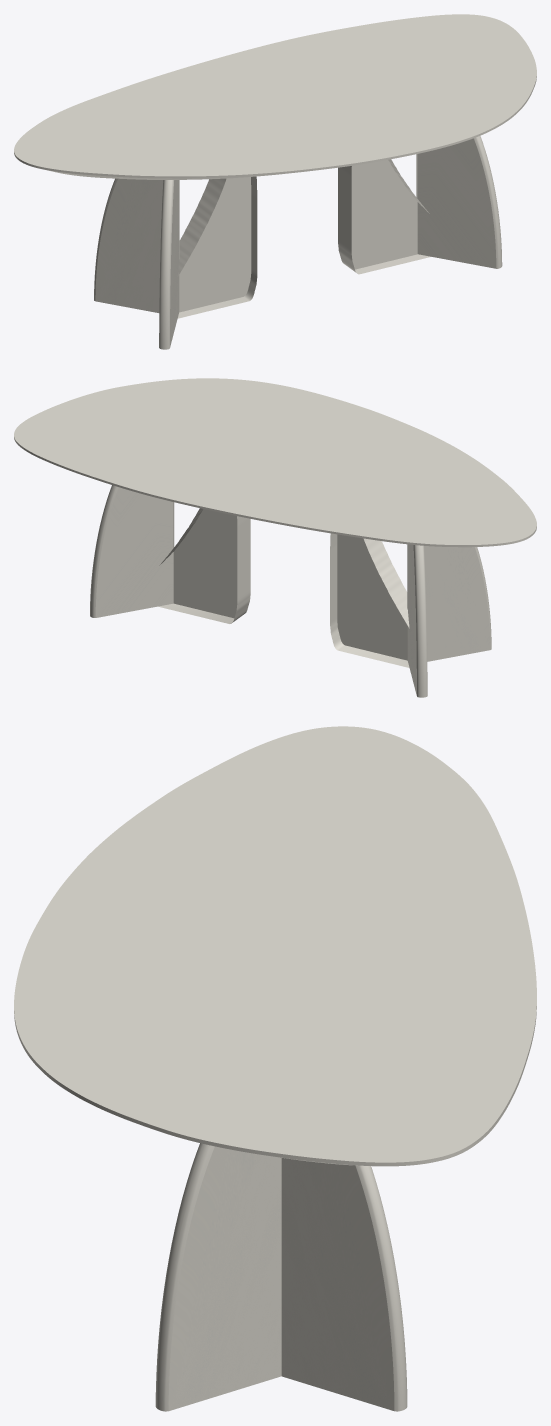
File: pale_pebbletop_facet_plane.glb
3 renders of one model, top to bottom at view 1: azimuth 30°, elevation 25°; view 2: azimuth 150°, elevation 25°; view 3: azimuth 270°, elevation 25°, orthographic. The views are drawn at different scales.
Parts seen in each view (by area): view 1: facet_pebbletop, plane_singleright2, plane_single1, plane_single2, plane_singleleft1, plane_singleright1; view 2: facet_pebbletop, plane_singleleft2, plane_single1, plane_single2, plane_singleright1, plane_singleleft1; view 3: facet_pebbletop, plane_singleright2, plane_singleleft2.
Part boxes in pixels (x1=…): facet_pebbletop: x1=14, y1=14, x2=536, y2=179; plane_singleright2: x1=416, y1=136, x2=502, y2=268; plane_single1: x1=177, y1=176, x2=257, y2=318; plane_single2: x1=338, y1=159, x2=431, y2=274; plane_singleleft1: x1=94, y1=178, x2=179, y2=312; plane_singleright1: x1=159, y1=180, x2=179, y2=349; facet_pebbletop: x1=14, y1=378, x2=536, y2=547; plane_singleleft2: x1=90, y1=485, x2=174, y2=617; plane_single1: x1=330, y1=533, x2=409, y2=667; plane_single2: x1=158, y1=508, x2=250, y2=623; plane_singleright1: x1=407, y1=544, x2=491, y2=661; plane_singleleft1: x1=407, y1=544, x2=427, y2=697; facet_pebbletop: x1=14, y1=726, x2=536, y2=1166; plane_singleright2: x1=155, y1=1143, x2=281, y2=1411; plane_singleleft2: x1=281, y1=1158, x2=407, y2=1411.
Size of the model in its own units: 7.5 by 2.49 by 3.8.
1 material, 1 textured.
